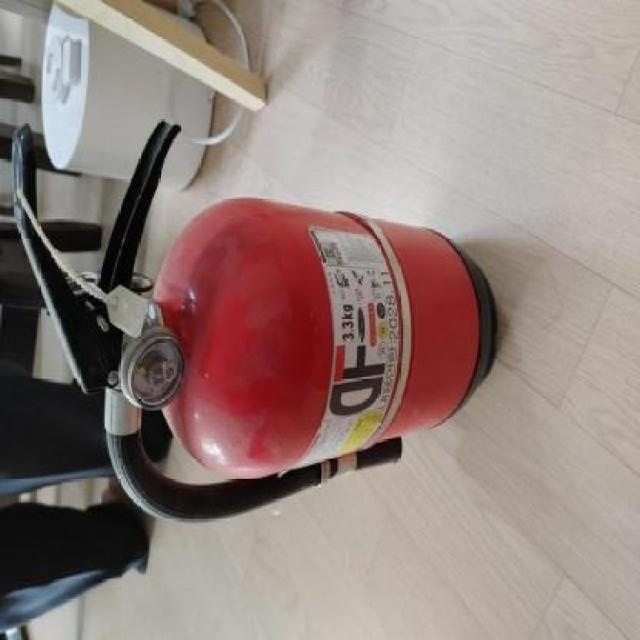fire extinguisher: (11, 119, 495, 527)
